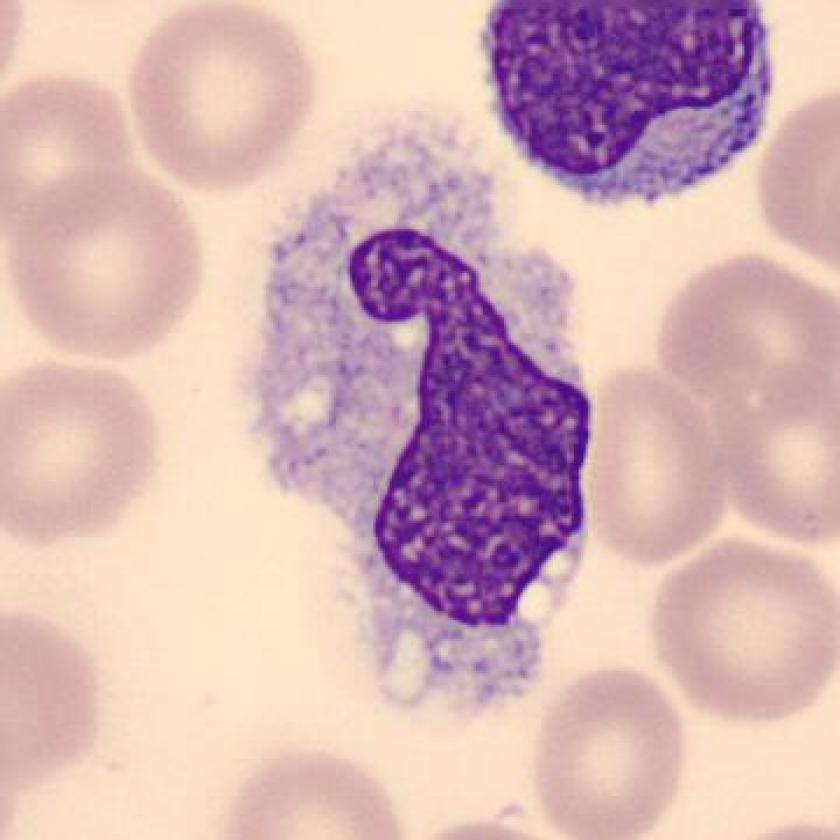monocyte: (223, 98, 612, 737)
